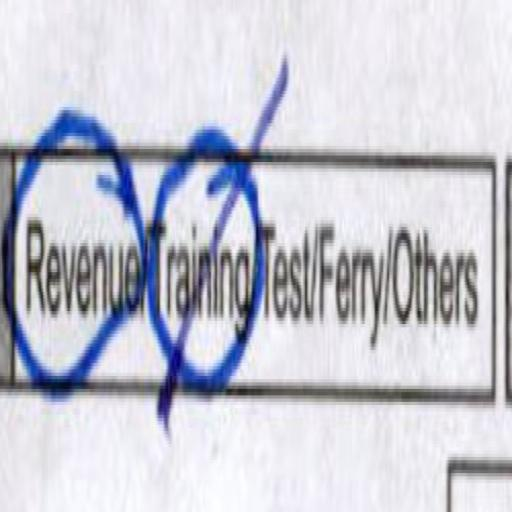check: (2, 62, 146, 432), (149, 31, 261, 438)
